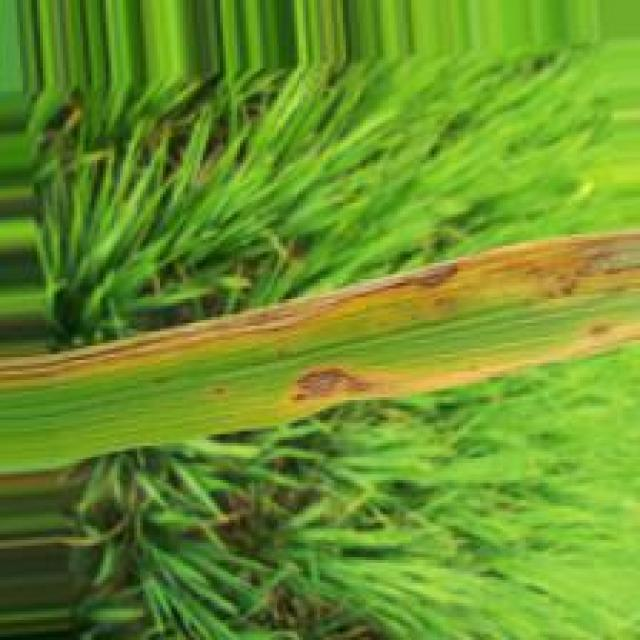Rice Tungro: (0, 259, 460, 384), (283, 366, 377, 408), (568, 241, 636, 283)
